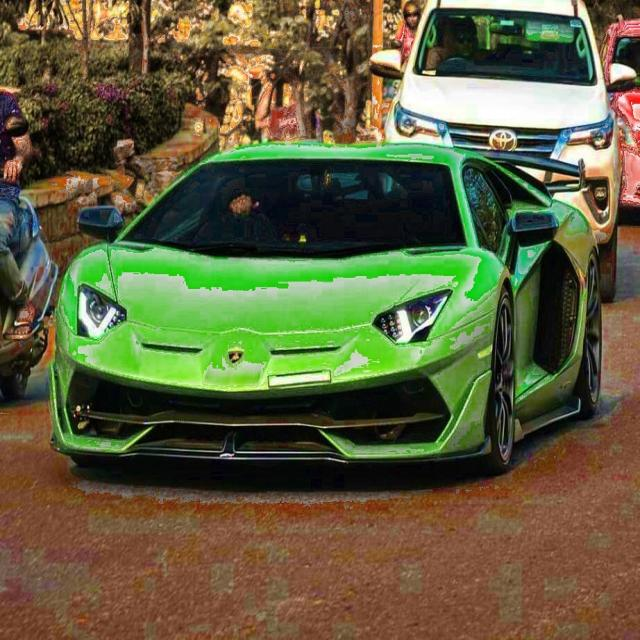green: (38, 140, 603, 488)
white: (378, 0, 624, 294)
